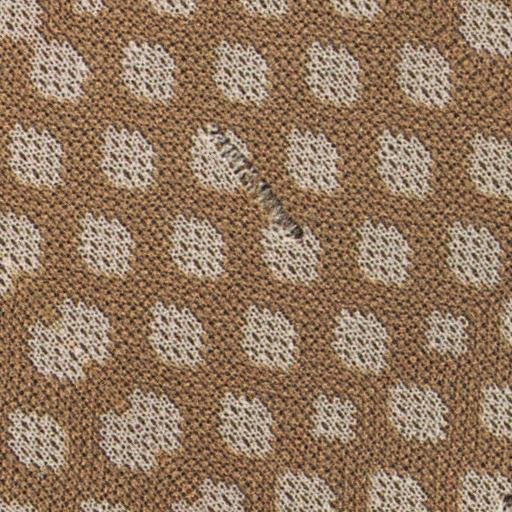slub: (192, 112, 311, 258)
